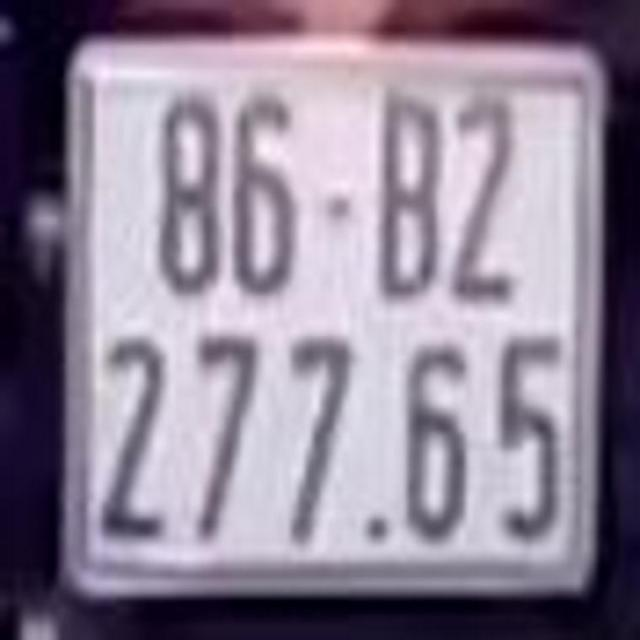2: (100, 330, 171, 522), (455, 96, 512, 306)
5: (491, 334, 565, 540)
6: (396, 341, 474, 536), (234, 102, 293, 294)
7: (285, 328, 350, 549), (184, 334, 247, 540)
8: (158, 104, 222, 294)
B: (375, 100, 436, 300)
